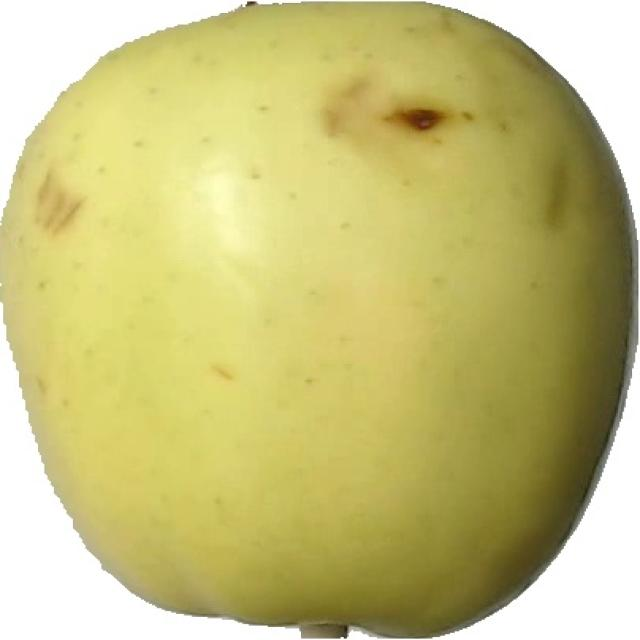Golden Elma: (16, 1, 623, 640)
